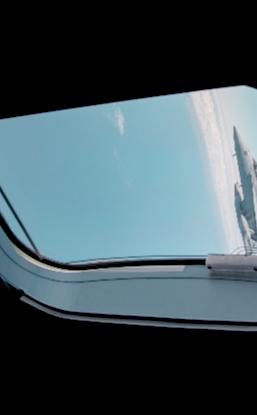F15: (232, 124, 256, 260)
